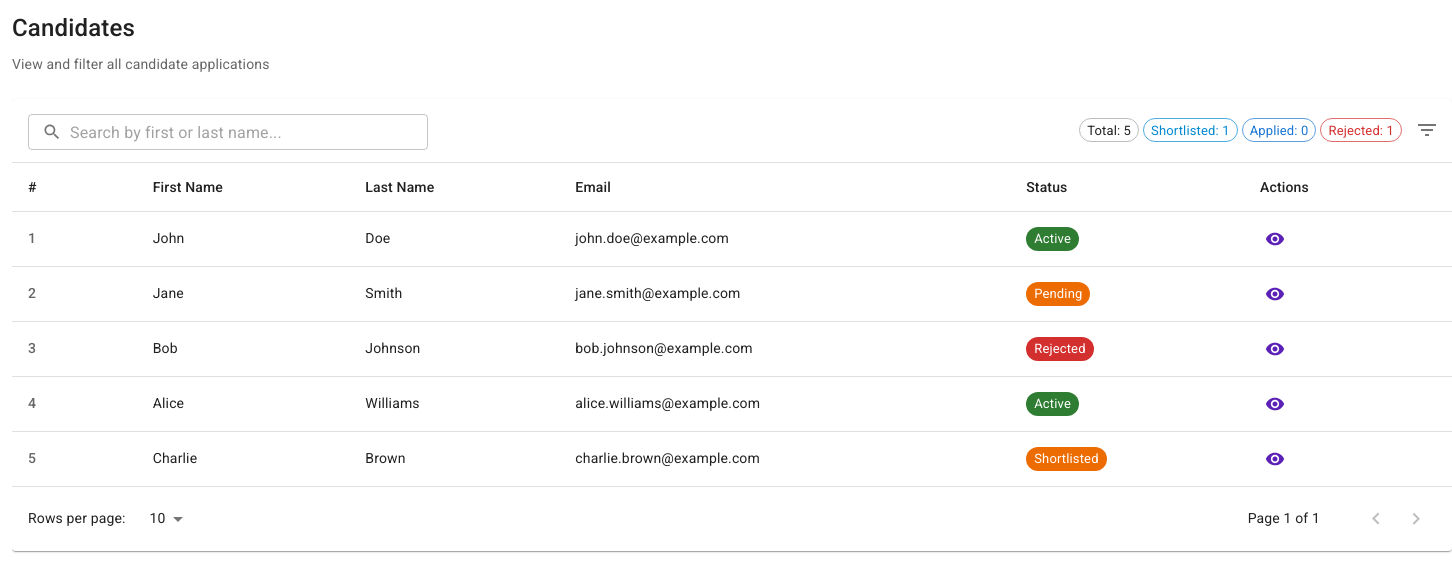
Test: CandidatesListPage › should compute available statuses from all candidates
Expected: the text "John" is shown, [137,212,349,266]
Click the button named "filter": [1427, 130] box [1410,114,1444,148]
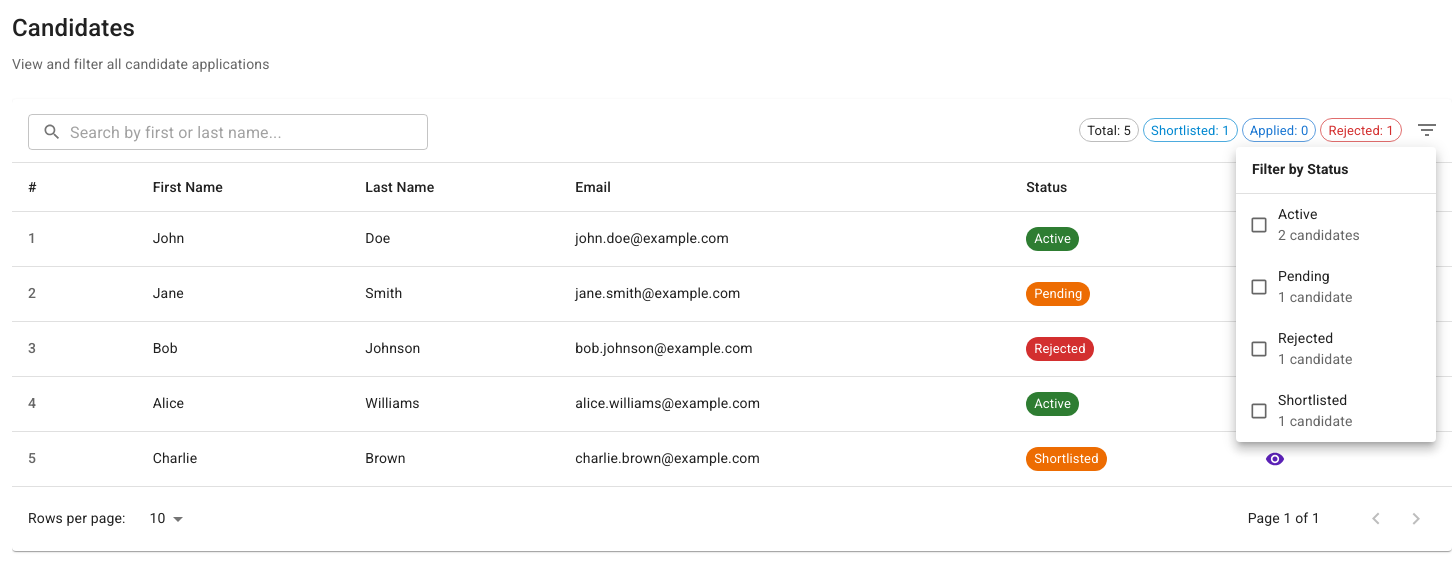
Result: the heading "Filter by Status" is shown at [1252,159,1348,181]
